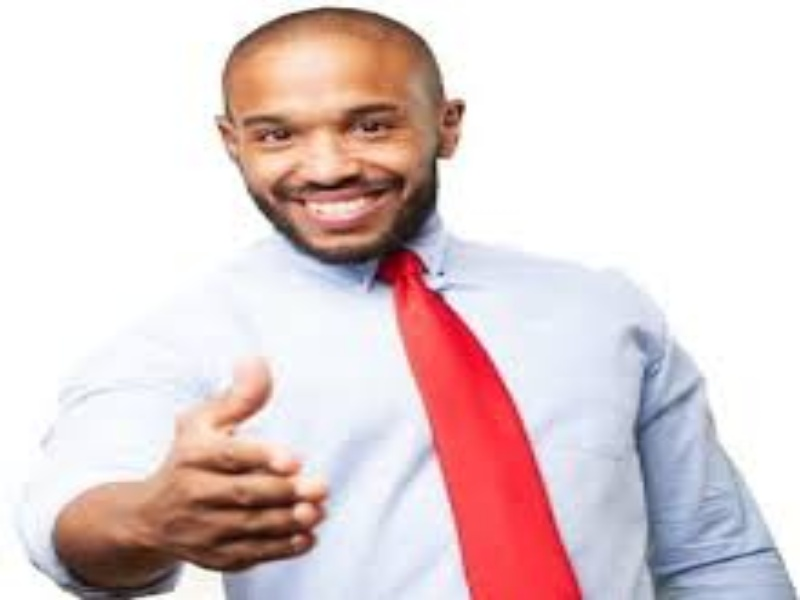person: (124, 22, 646, 583)
